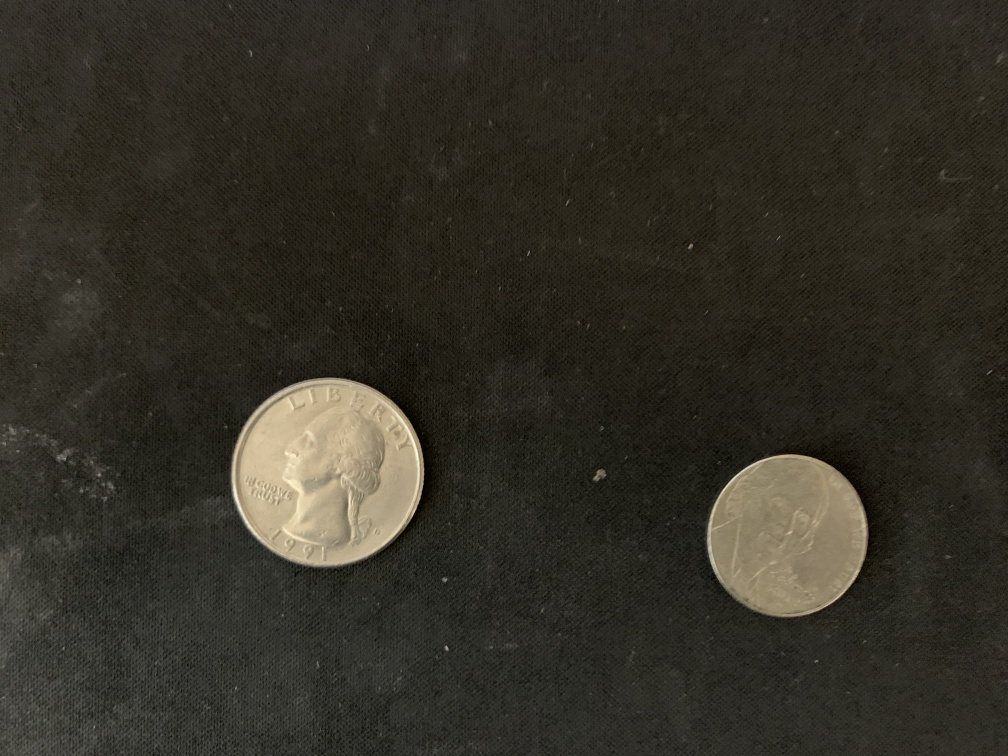quarter: (225, 372, 433, 574), (701, 448, 876, 623)
